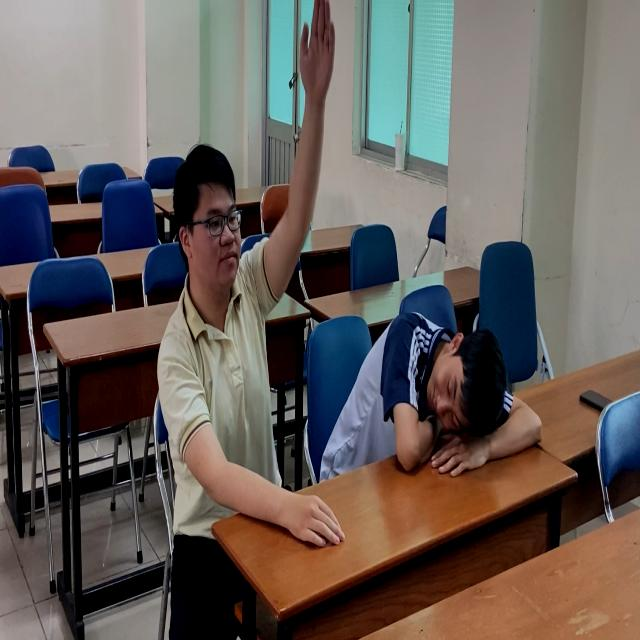raise_hand: (169, 1, 340, 505)
sleep: (330, 303, 549, 496)
